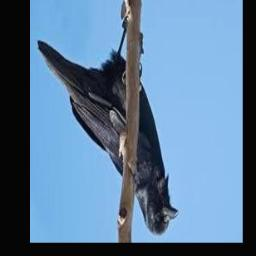Crow: (37, 28, 178, 238)
